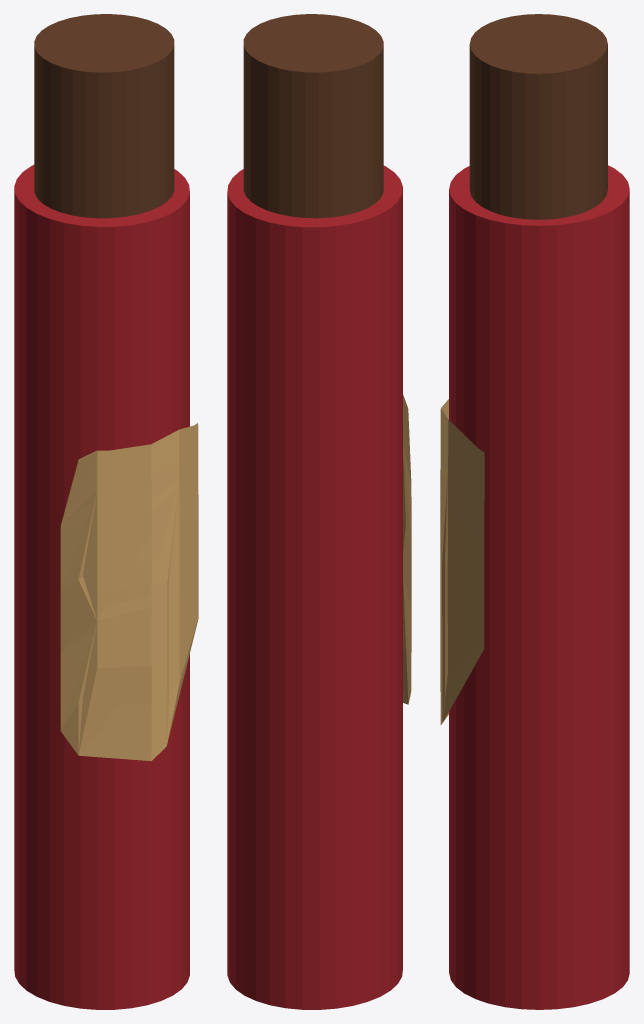
The model's file is SmallPotionRED.fbx.
3 views of the same model, side by side, from view 1: azimuth 30°, elevation 25°; view 2: azimuth 150°, elevation 25°; view 3: azimuth 270°, elevation 25° (orthographic).
Parts seen in each view (by area): view 1: Sphere, Plane, Cylinder.001; view 2: Sphere, Cylinder.001, Plane; view 3: Sphere, Cylinder.001, Plane.
Boxes of the visible parts, x1,y1,x2,y2 form: Sphere: [14, 165, 189, 1009]; Plane: [60, 423, 198, 761]; Cylinder.001: [34, 14, 174, 218]; Sphere: [227, 165, 402, 1009]; Cylinder.001: [243, 14, 383, 218]; Plane: [403, 394, 411, 704]; Sphere: [449, 165, 629, 1009]; Cylinder.001: [469, 14, 607, 219]; Plane: [440, 399, 484, 724].
Bounding box in the file's own units: 30.71 × 180 × 33.33.
